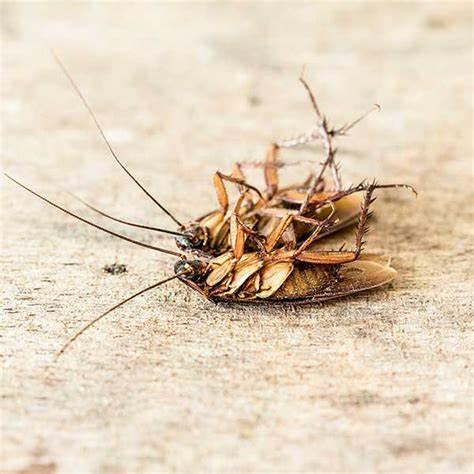cockroach: (166, 164, 376, 254), (168, 236, 404, 308)
